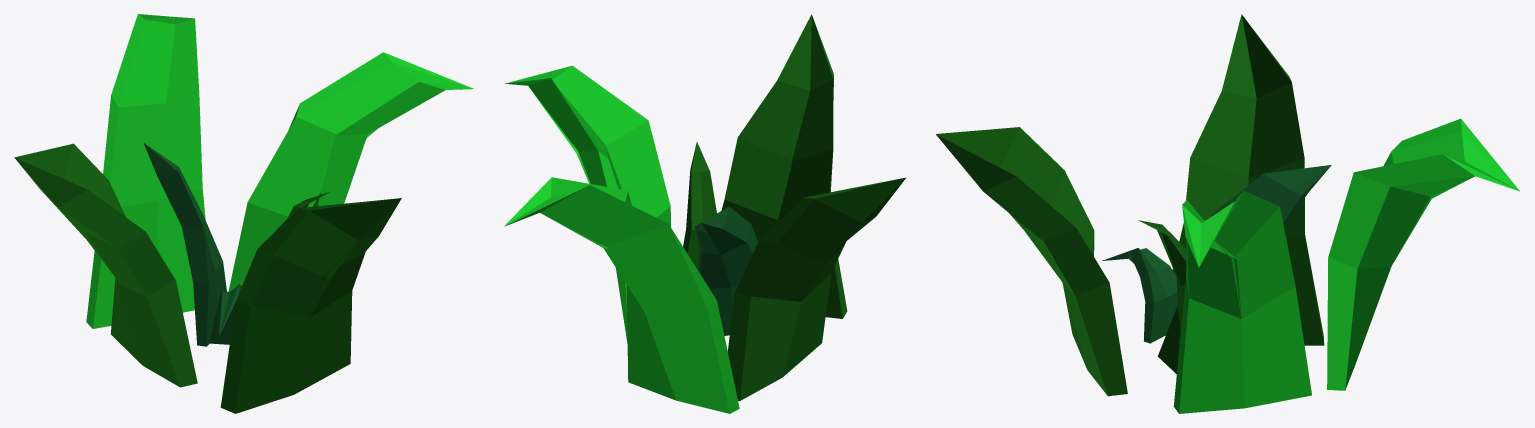
Rendered from Cespuglio 24.DAE.
3 views of the same model, side by side, from view 1: azimuth 30°, elevation 25°; view 2: azimuth 150°, elevation 25°; view 3: azimuth 270°, elevation 25° (orthographic). The views are drawn at different scales.
Visible parts, largest first — view 1: Aloe002, Aloe1; view 2: Aloe002, Aloe1; view 3: Aloe1, Aloe002.
Part boxes in pixels (x1,y1,x2,y2): Aloe002: (86,14,401,413); Aloe1: (14,52,473,387); Aloe002: (504,14,847,413); Aloe1: (505,65,906,401); Aloe1: (1102,14,1331,413); Aloe002: (936,118,1519,396).
Size of the model in its own units: 13.43 by 7.44 by 14.57.
